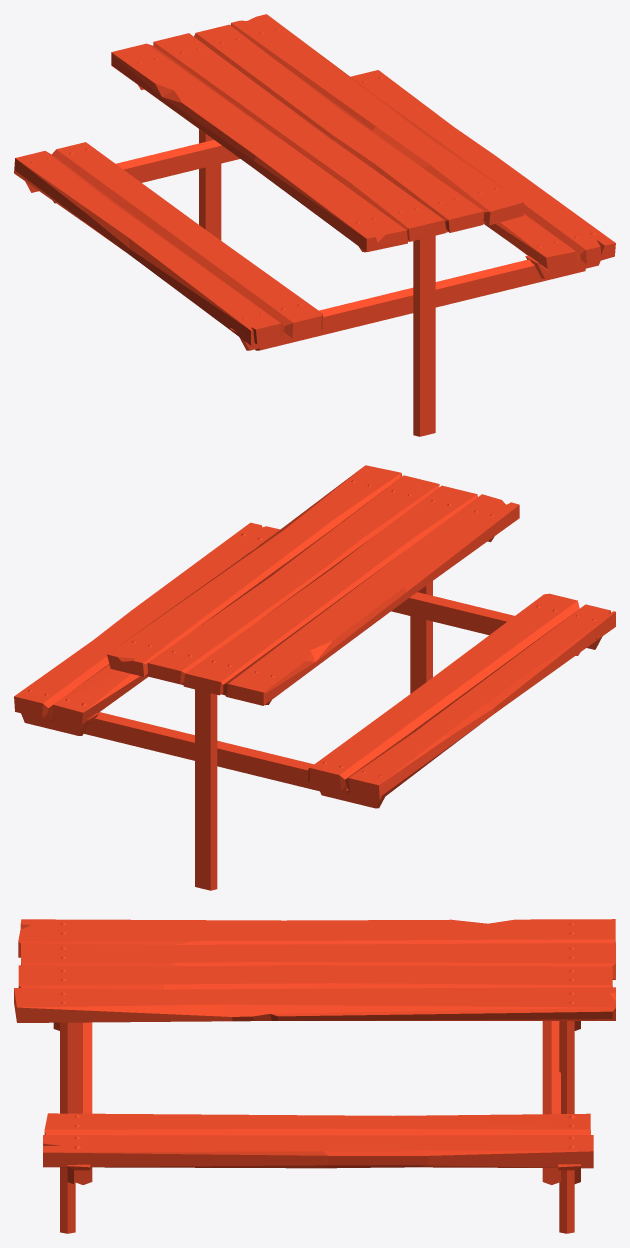
File: SM_Table_B_City.fbx
The picture shows the model from 3 angles, top to bottom: view 1: azimuth 30°, elevation 25°; view 2: azimuth 150°, elevation 25°; view 3: azimuth 270°, elevation 25°; orthographic projection. The views are drawn at different scales.
Visible parts, largest first — view 1: SM_Table_B_City; view 2: SM_Table_B_City; view 3: SM_Table_B_City.
Boxes of the visible parts, x1=… form: SM_Table_B_City: x1=14, y1=14, x2=615, y2=436; SM_Table_B_City: x1=14, y1=465, x2=615, y2=890; SM_Table_B_City: x1=14, y1=919, x2=615, y2=1233.
Size of the model in its own units: 1.81 by 1.07 by 2.19.
